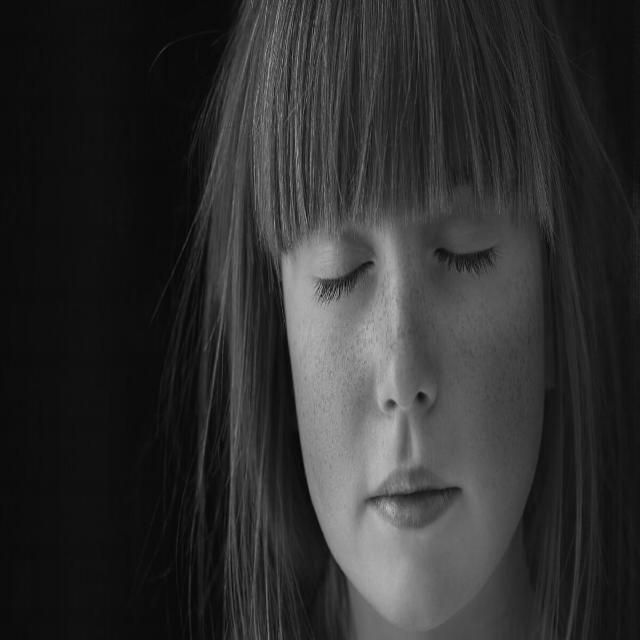real: (268, 181, 558, 637), (302, 204, 533, 315)
